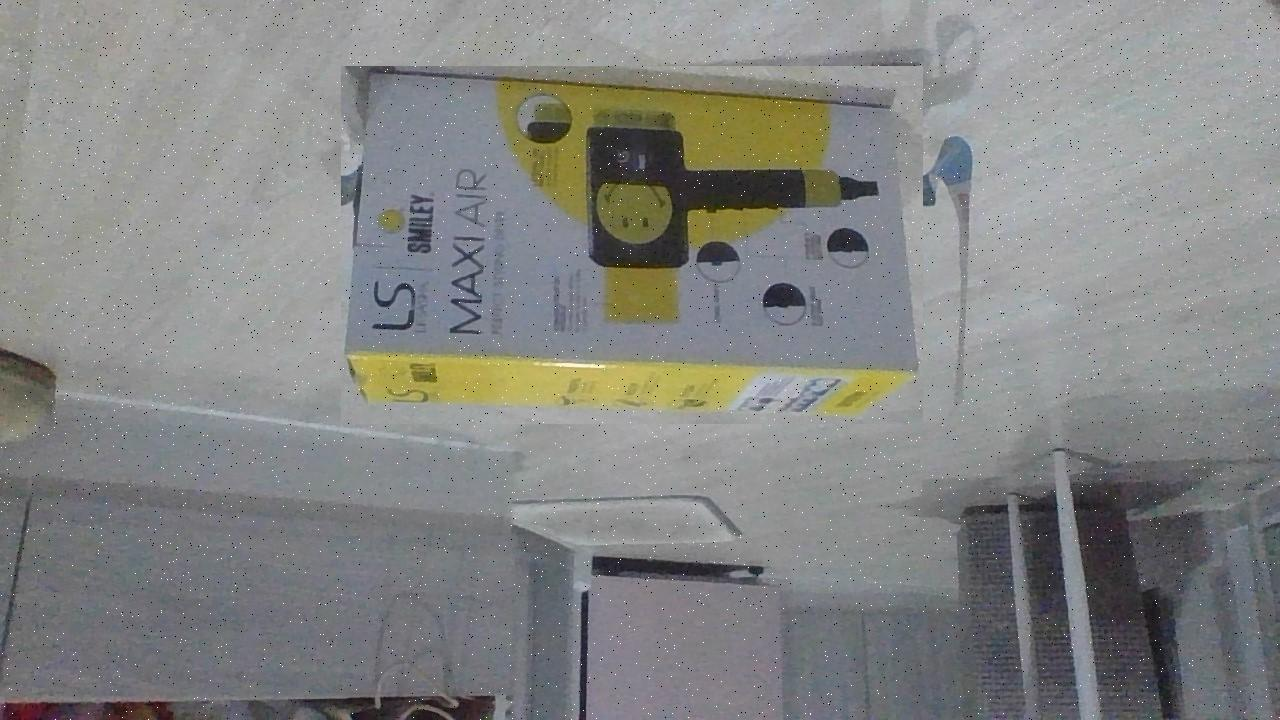Dryer: (341, 66, 923, 424)
